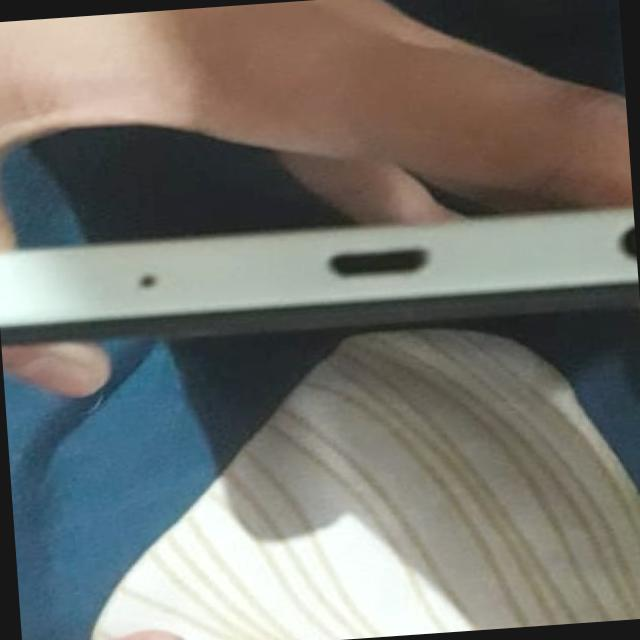phone good: (0, 208, 627, 344)
